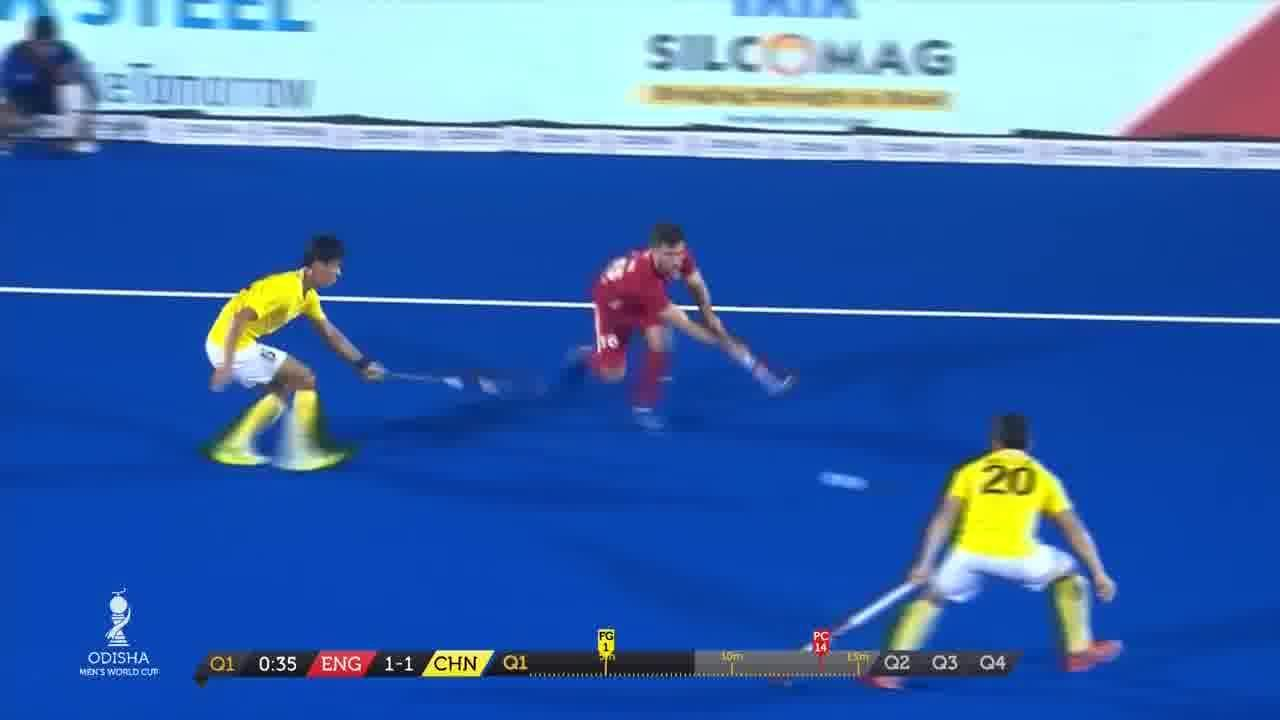ball: (813, 464, 873, 496)
